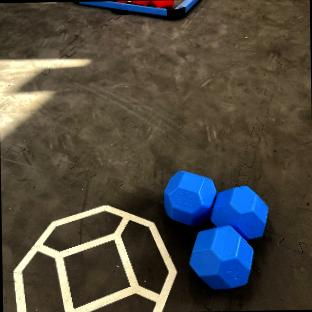V5_BLUE: (190, 225, 251, 288), (210, 186, 267, 238), (163, 170, 215, 224)
pieces: (162, 169, 268, 289)
